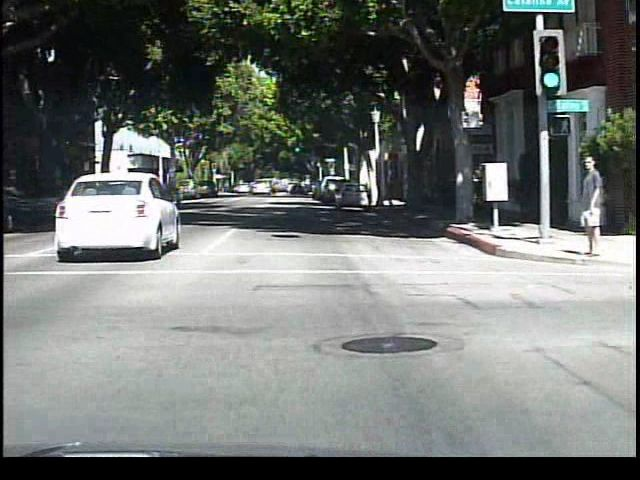person: (571, 149, 603, 261)
